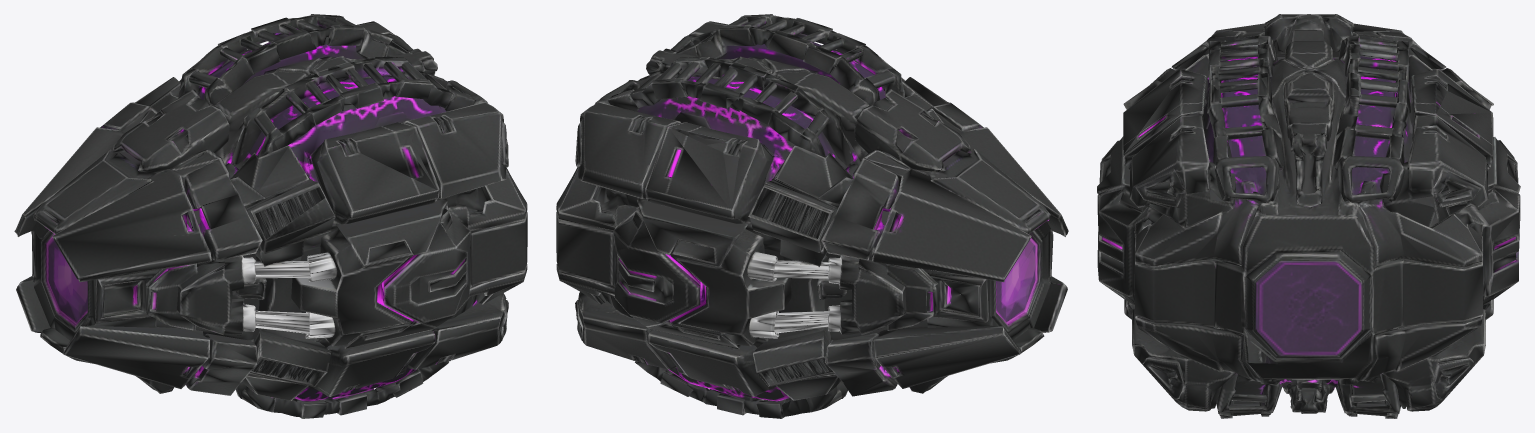
File: prism_archon_hull.glb
3 renders of one model, left to right at view 1: azimuth 30°, elevation 25°; view 2: azimuth 150°, elevation 25°; view 3: azimuth 270°, elevation 25°, orthographic. The views are drawn at different scales.
Visible parts, largest first — view 1: prism_archon_hull; view 2: prism_archon_hull; view 3: prism_archon_hull.
Boxes of the visible parts, x1,y1,x2,y2 form: prism_archon_hull: (14, 14, 527, 418); prism_archon_hull: (556, 14, 1068, 418); prism_archon_hull: (1097, 14, 1520, 418).
Size of the model in its own units: 2.35 by 1.71 by 1.88.
Materials: 1 (1 with a texture image).
